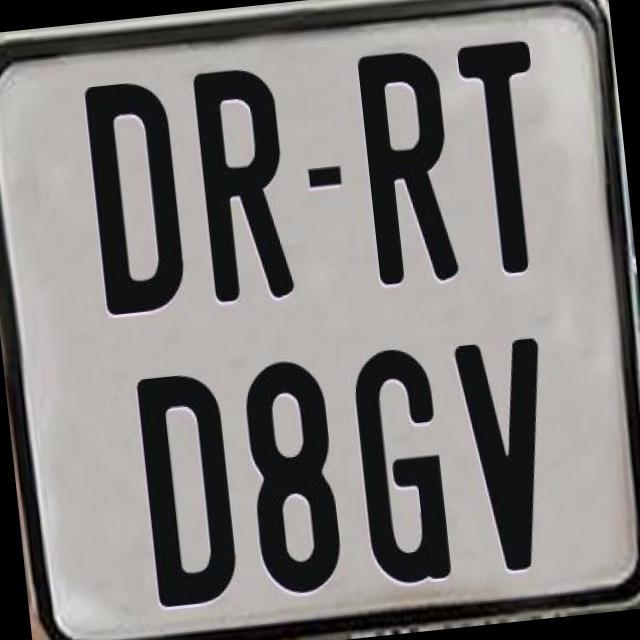8: (238, 358, 346, 596)
D: (134, 368, 246, 610), (84, 79, 192, 321)
G: (348, 344, 457, 591)
T: (452, 35, 548, 275)
V: (453, 337, 565, 580)
